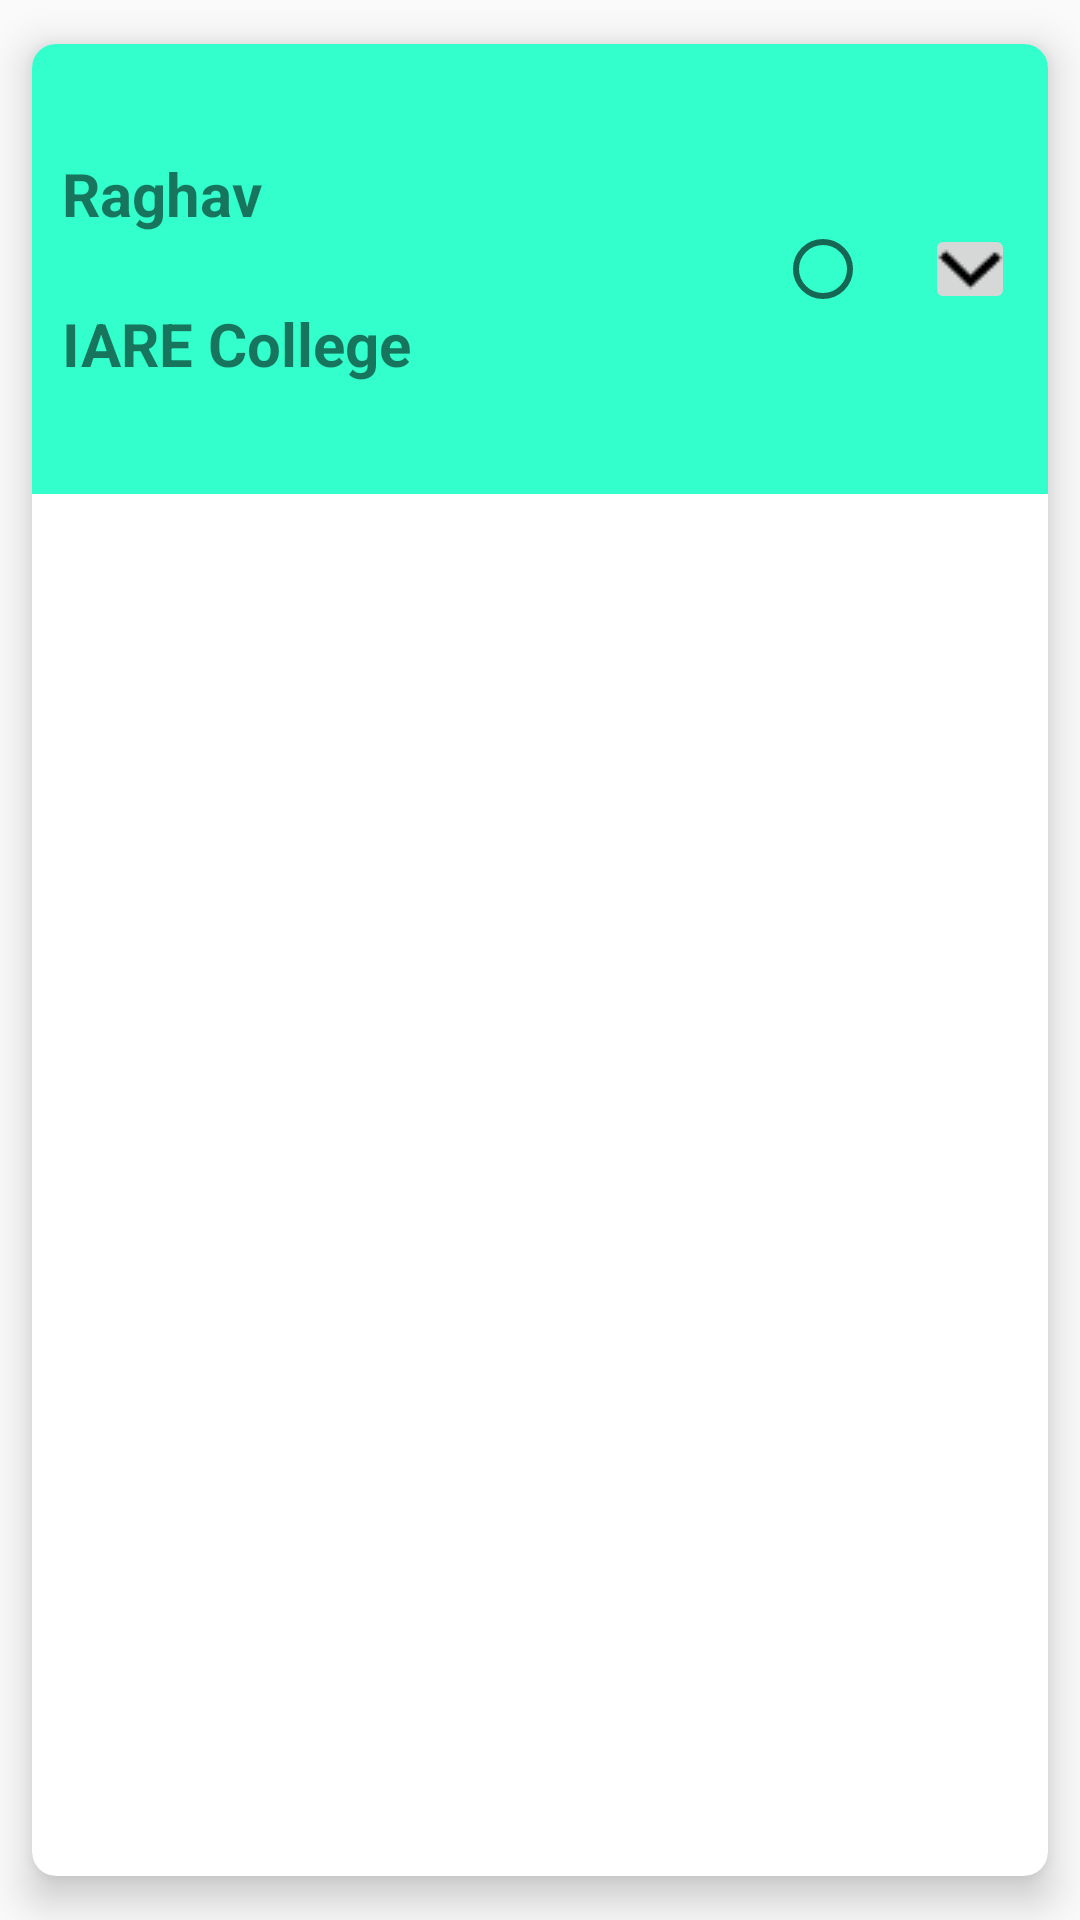

Screen size 1080w x 1920h. Icon name, then its center in pixels as point (x, y):
dropdwon: point (970, 269)
